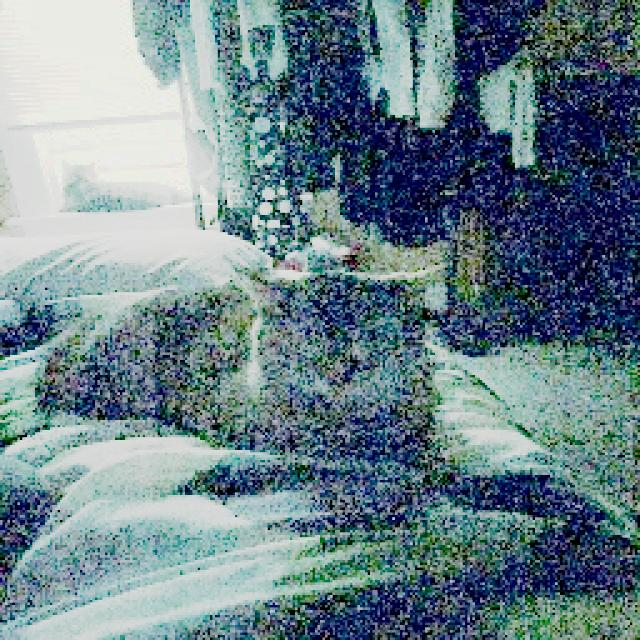cat: (34, 268, 439, 466)
